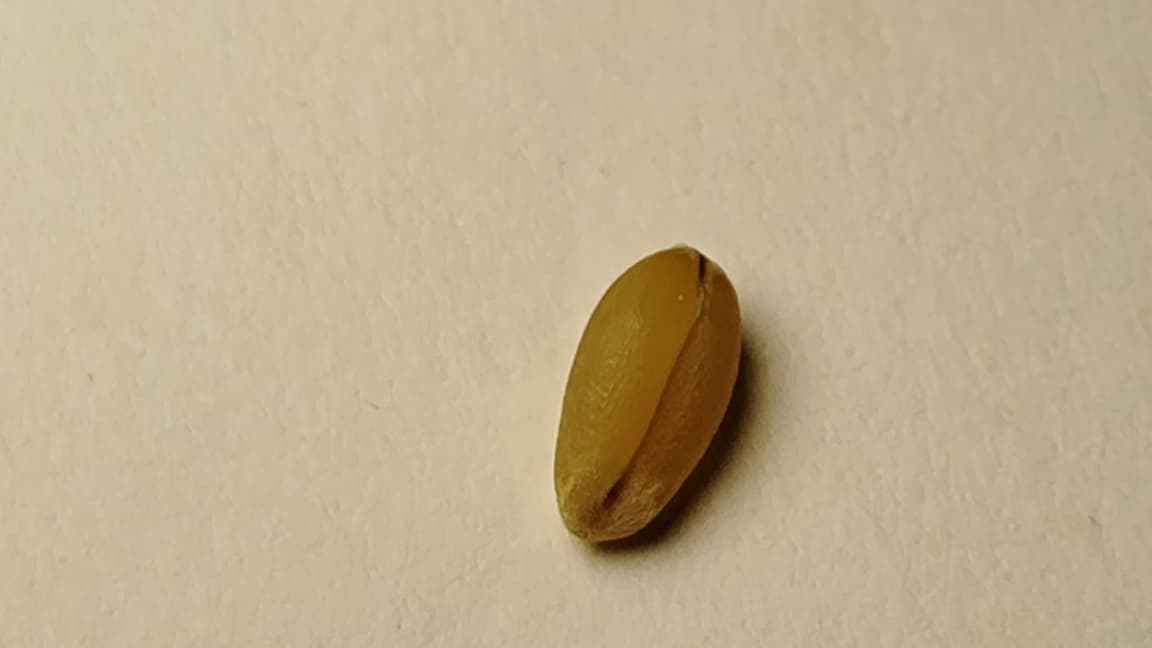healthy: (555, 245, 738, 541)
